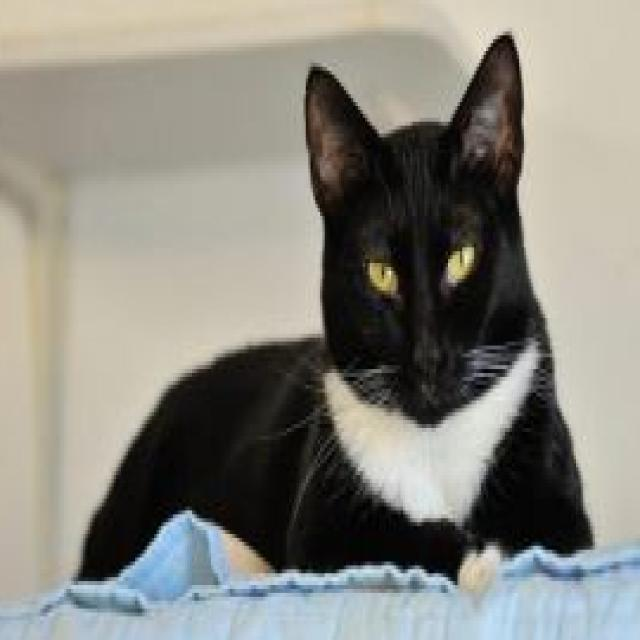Tuxedo: (71, 27, 598, 586)
